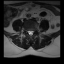CCS_normal: (29, 29, 31, 37)
LFS_stenosis: (33, 28, 35, 33)
LLS_normal: (31, 29, 33, 36)
RFS_normal: (26, 28, 27, 33)
RLS_normal: (27, 29, 29, 35)
